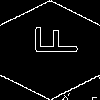F: (25, 25, 77, 55)
